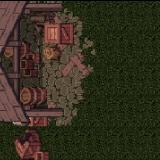Hide: (50, 9, 117, 82)
Obstacle: (0, 0, 100, 128), (0, 128, 55, 160)
